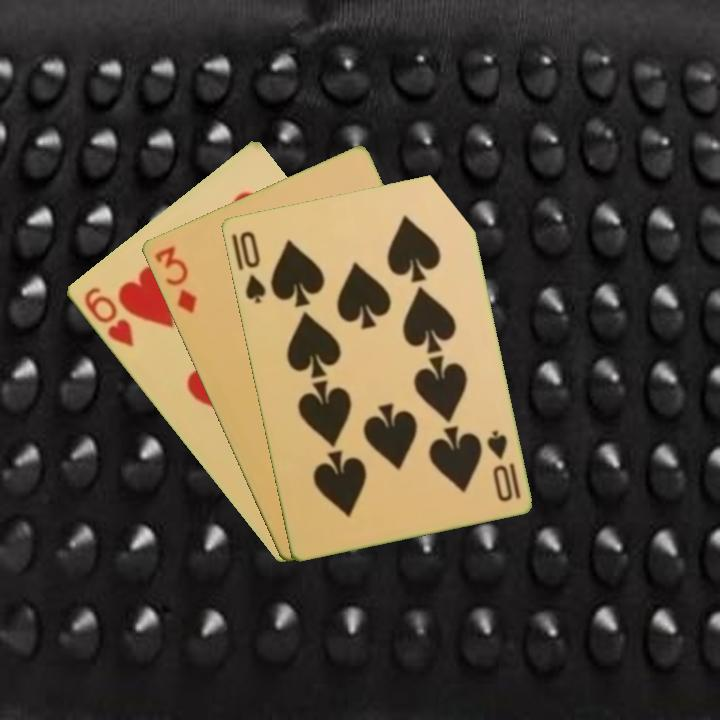10s: (482, 426, 523, 505), (235, 227, 269, 306)
3d: (150, 242, 200, 316)
6h: (80, 283, 136, 351)
